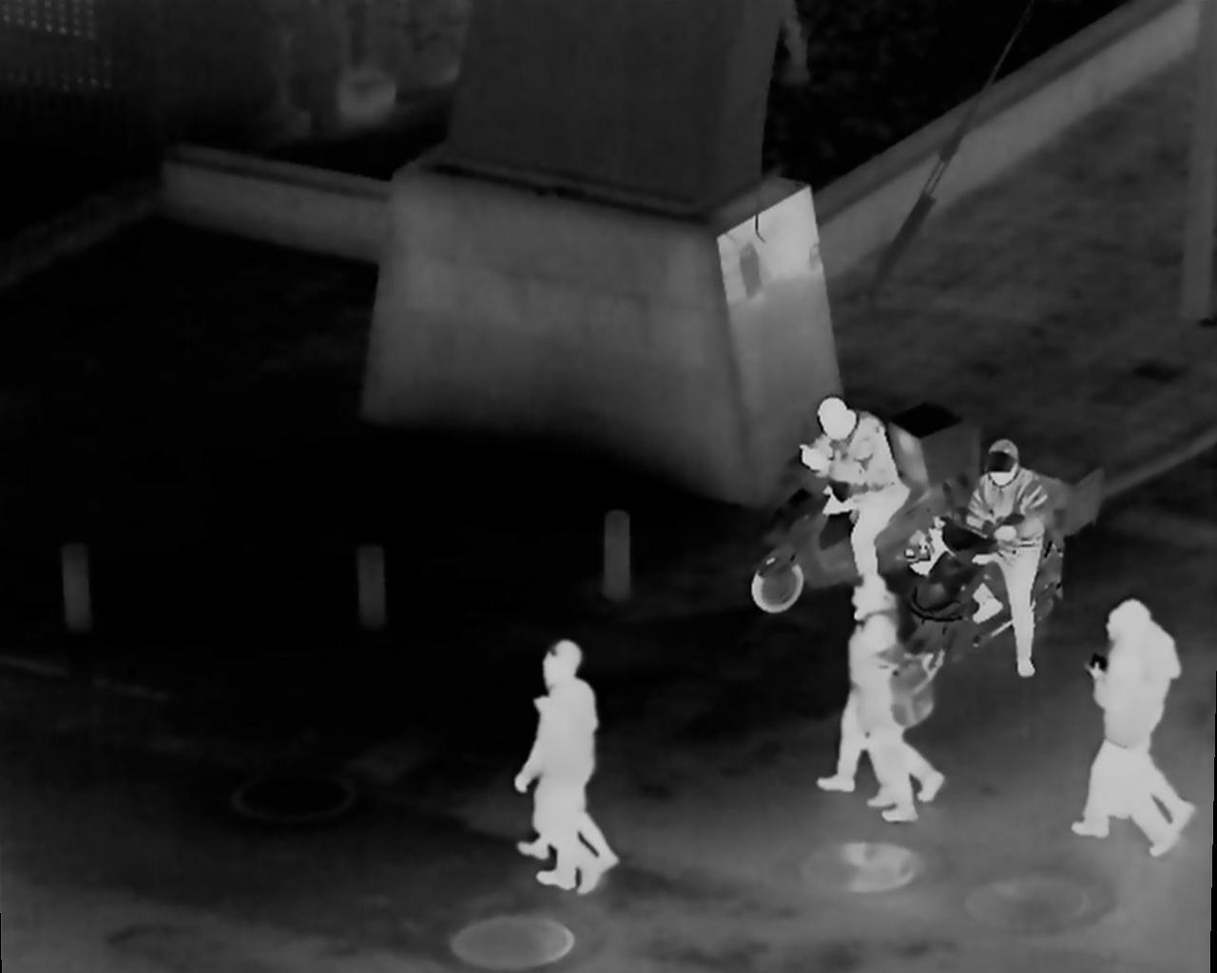person: (823, 575, 946, 801), (1073, 614, 1178, 858), (1090, 601, 1195, 828), (514, 661, 608, 897), (521, 639, 615, 866), (801, 391, 905, 593), (963, 436, 1043, 677), (848, 617, 924, 825)
